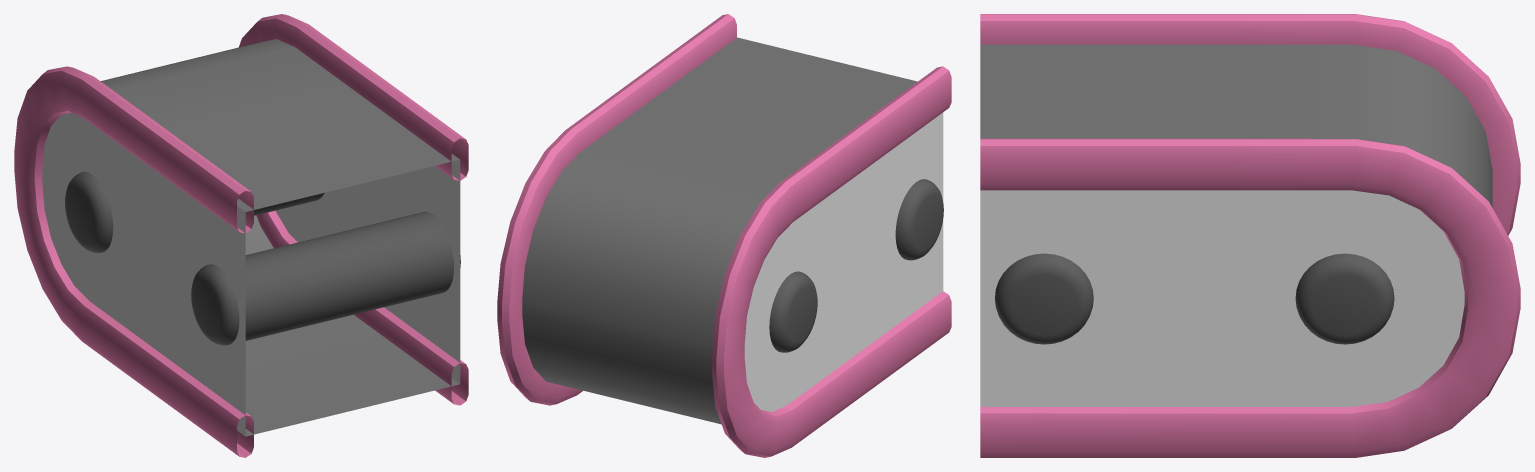
The model's file is kìsaBaslangic.fbx.
3 views of the same model, side by side, from view 1: azimuth 30°, elevation 25°; view 2: azimuth 150°, elevation 25°; view 3: azimuth 270°, elevation 25° (orthographic). The views are drawn at different scales.
Visible parts, largest first — view 1: kısaBaslangic; view 2: kısaBaslangic; view 3: kısaBaslangic.
Boxes of the visible parts, left/top/right/bottom form: kısaBaslangic: left=14, top=14, right=468, bottom=457; kısaBaslangic: left=497, top=14, right=951, bottom=457; kısaBaslangic: left=980, top=14, right=1520, bottom=457.
Size of the model in its own units: 222 by 238 by 366.
